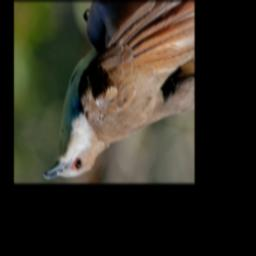Cuckoo: (43, 2, 195, 179)
